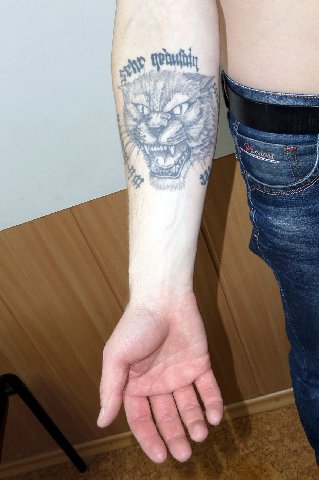tatu3_bukva: (110, 49, 210, 79)
tatu8_kot: (110, 71, 223, 193)
